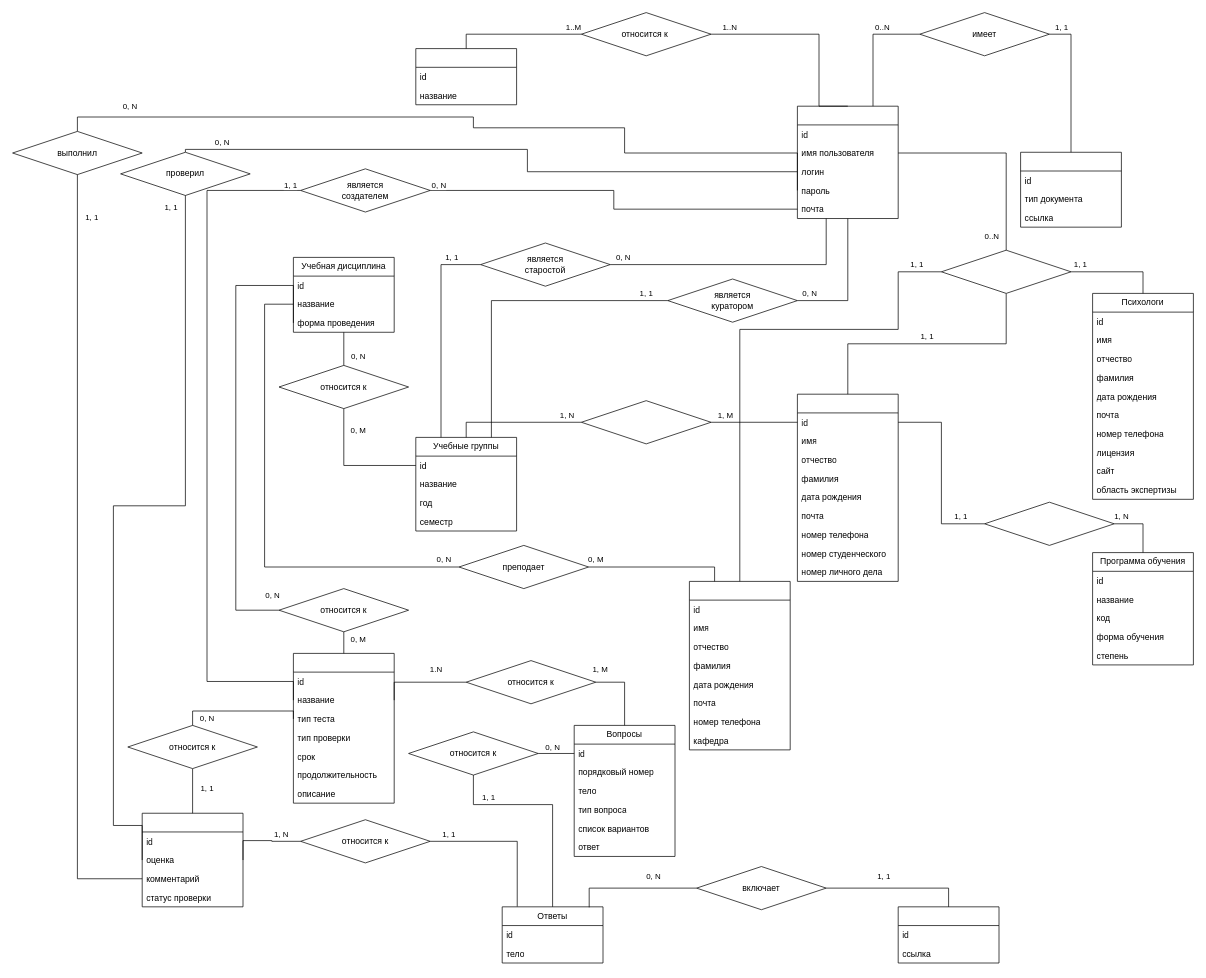
Some shapes in this 1206 by 978 pixel diagram are drawn without their labels. Here are the shapes that lost their labels. From the top down, the box of each, then its label:
(415, 48, 517, 105): Роли
(797, 105, 898, 219): Пользователи
(1020, 152, 1121, 227): Документы
(941, 249, 1071, 293): является
(581, 400, 711, 444): состоит в
(797, 393, 898, 581): Студенты
(984, 501, 1114, 545): обучается
(689, 581, 790, 750): Преподаватели
(293, 653, 394, 803): Тесты
(141, 813, 243, 907): Результаты теста
(897, 906, 999, 963): Приложения
